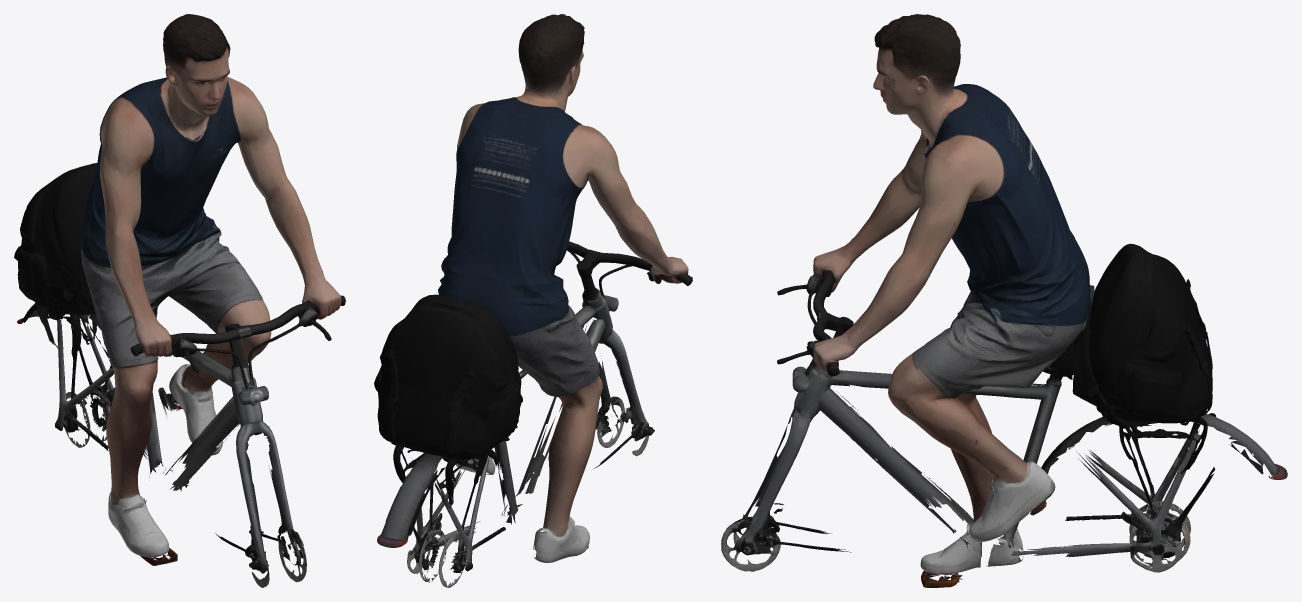
File: rider_scan.glb
3 views of the same model, side by side, from view 1: azimuth 30°, elevation 25°; view 2: azimuth 150°, elevation 25°; view 3: azimuth 270°, elevation 25° (orthographic). The views are drawn at different scales.
Parts seen in each view (by area): view 1: geometry_0; view 2: geometry_0; view 3: geometry_0.
Part boxes in pixels (x1,y1,x2,y2): geometry_0: [14, 14, 345, 587]; geometry_0: [374, 14, 692, 587]; geometry_0: [721, 14, 1287, 587].
Size of the model in its own units: 0.7173 by 1.74 by 1.54.
1 material, 1 textured.
